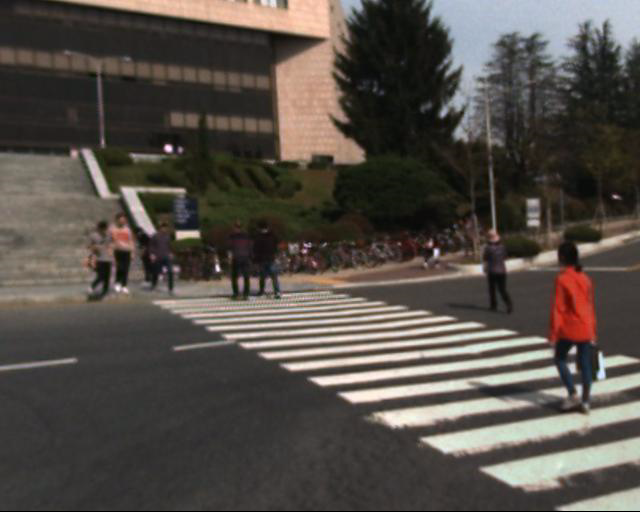person: (548, 229, 600, 418), (77, 211, 126, 310), (476, 220, 521, 321), (216, 219, 262, 309), (248, 213, 289, 311), (109, 203, 142, 306), (145, 213, 179, 296), (140, 224, 172, 296), (449, 205, 488, 263), (418, 218, 452, 282)
